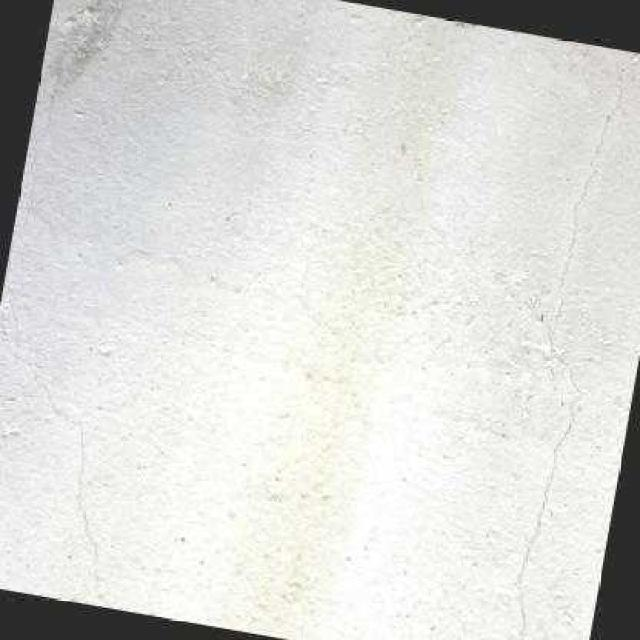D00: (0, 48, 121, 610), (512, 90, 622, 640)
